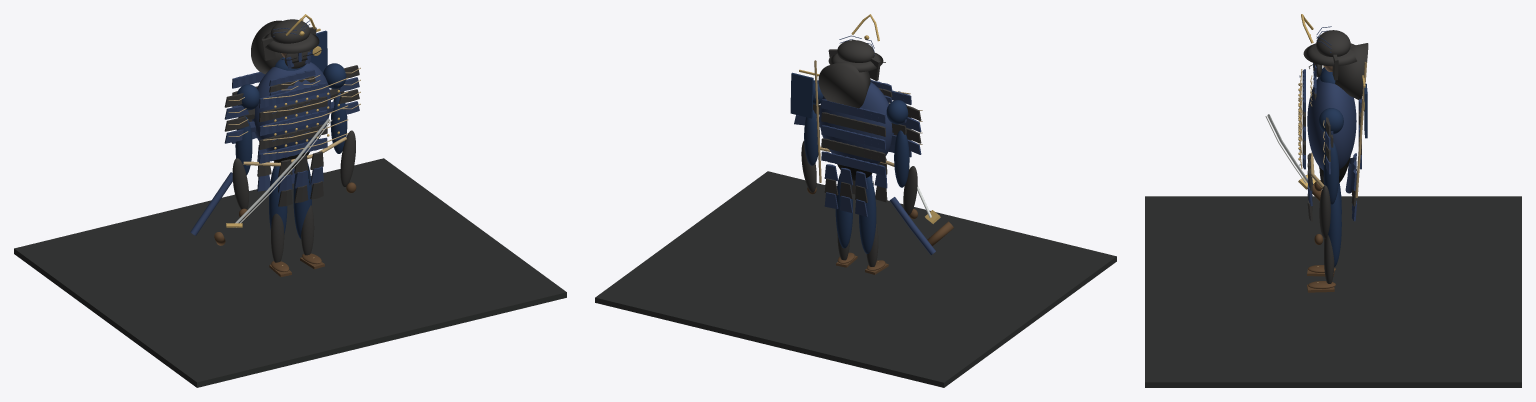
File: actor-uesugi-08.glb
3 views of the same model, side by side, from view 1: azimuth 30°, elevation 25°; view 2: azimuth 150°, elevation 25°; view 3: azimuth 270°, elevation 25° (orthographic). The views are drawn at different scales.
Visible parts, largest first — view 1: matte charcoal inspection plinth, rounded do cuirass silhouette, rear shikoro neck guard flare, segmented kabuto helmet bowl, right armored upper arm, right kote forearm guard, left kote forearm guard, wide kabuto brim, left hakama trouser leg, right hakama trouser leg, left armored upper arm, left shin greave (+2 smaller); view 2: matte charcoal inspection plinth, rear shikoro neck guard flare, rounded do cuirass silhouette, cloth sashimono banner panel, left hakama trouser leg, left armored upper arm, segmented kabuto helmet bowl, right hakama trouser leg, right armored upper arm, left kote forearm guard, lacquered saya scabbard at left hip; view 3: matte charcoal inspection plinth, rounded do cuirass silhouette, rear shikoro neck guard flare, segmented kabuto helmet bowl, right hakama trouser leg, wide kabuto brim, right armored upper arm, right kote forearm guard, right shoulder undercloth, right shin greave, bamboo sashimono back pole.
Part boxes in pixels (x1,y1,x2,y2): matte charcoal inspection plinth: [14, 158, 566, 387]; rounded do cuirass silhouette: [252, 62, 330, 151]; rear shikoro neck guard flare: [251, 20, 283, 74]; segmented kabuto helmet bowl: [270, 19, 310, 43]; right armored upper arm: [330, 93, 347, 153]; right kote forearm guard: [340, 130, 355, 186]; left kote forearm guard: [232, 158, 248, 209]; wide kabuto brim: [261, 33, 319, 53]; left hakama trouser leg: [269, 166, 287, 234]; right hakama trouser leg: [293, 163, 311, 239]; left armored upper arm: [235, 116, 252, 174]; left shin greave: [271, 213, 284, 262]; matte charcoal inspection plinth: [595, 171, 1116, 387]; rear shikoro neck guard flare: [818, 61, 870, 108]; rounded do cuirass silhouette: [819, 82, 893, 164]; cloth sashimono banner panel: [790, 72, 813, 118]; left hakama trouser leg: [859, 176, 876, 253]; left armored upper arm: [894, 130, 909, 187]; segmented kabuto helmet bowl: [837, 40, 874, 62]; right hakama trouser leg: [835, 173, 852, 248]; right armored upper arm: [804, 110, 819, 165]; left kote forearm guard: [903, 166, 917, 215]; lacquered saya scabbard at left hip: [889, 197, 935, 254]; matte charcoal inspection plinth: [1145, 196, 1521, 387]; rounded do cuirass silhouette: [1307, 76, 1356, 170]; rear shikoro neck guard flare: [1335, 43, 1368, 99]; segmented kabuto helmet bowl: [1316, 30, 1350, 56]; right hakama trouser leg: [1328, 189, 1341, 267]; wide kabuto brim: [1303, 43, 1356, 66]; right armored upper arm: [1323, 142, 1339, 204]; right kote forearm guard: [1319, 185, 1330, 238]; right shoulder undercloth: [1319, 108, 1343, 134]; right shin greave: [1324, 235, 1334, 283]; bamboo sashimono back pole: [1355, 62, 1367, 197].
Size of the model in its own units: 4.2 by 2.96 by 3.6.
